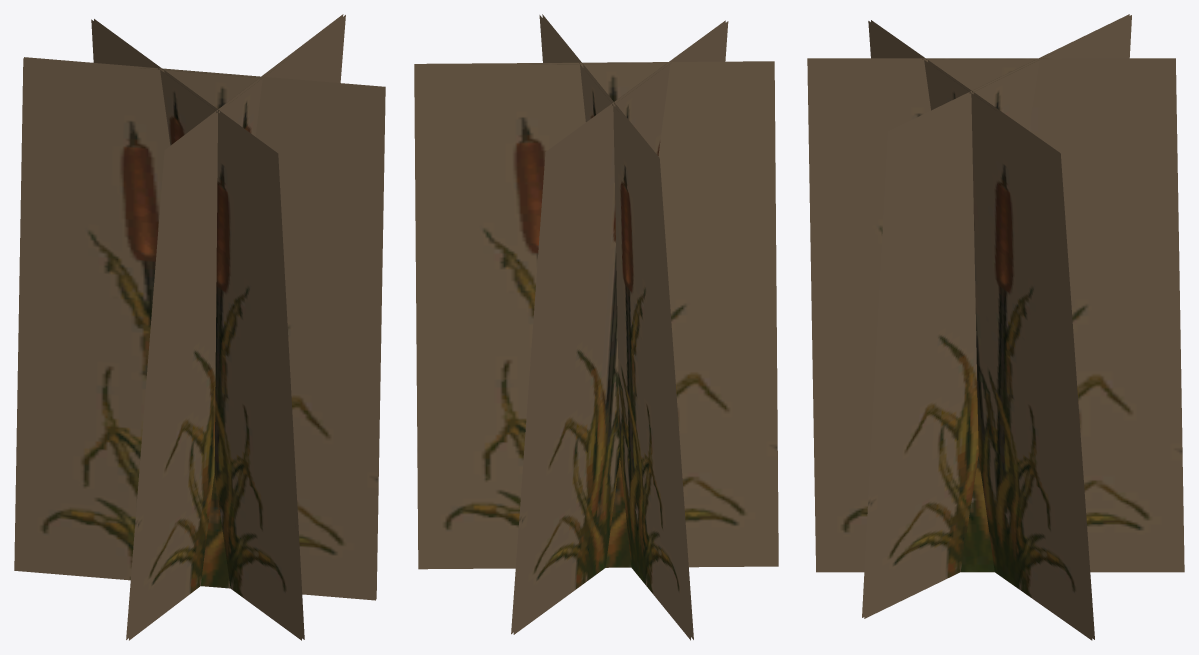
Rendered from duskwoodcatails01.obj.
The picture shows the model from 3 angles, left to right: view 1: azimuth 30°, elevation 25°; view 2: azimuth 150°, elevation 25°; view 3: azimuth 270°, elevation 25°; orthographic projection. The views are drawn at different scales.
Bounding box in the file's own units: 0.9797 × 1.51 × 1.04.
1 material, 1 textured.
